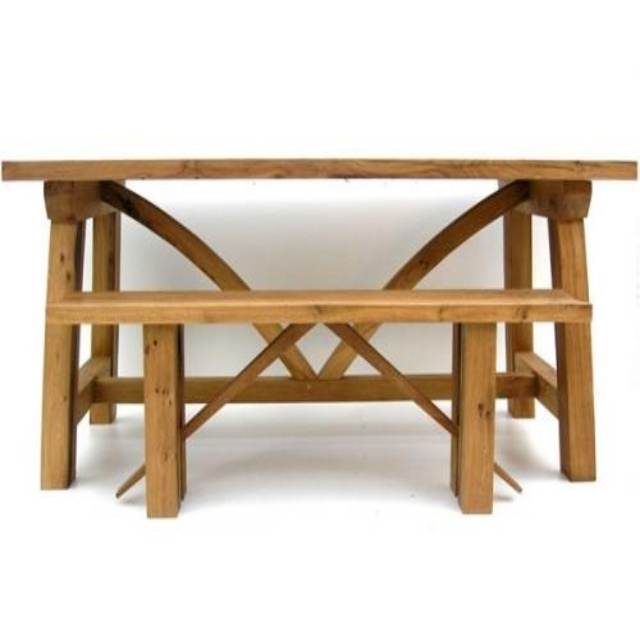obstacle: (1, 158, 636, 516)
